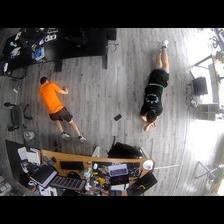fall: (36, 76, 89, 145), (141, 38, 173, 130)
